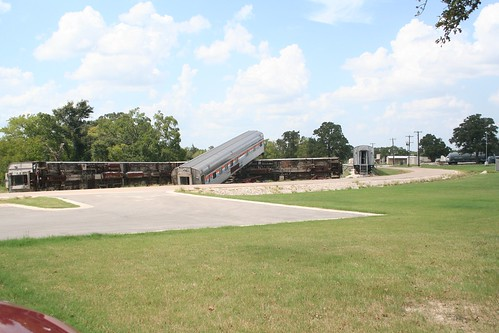grass: (25, 177, 491, 333)
sky: (1, 1, 496, 132)
train: (15, 137, 346, 199)
vegetation: (1, 110, 191, 164)
